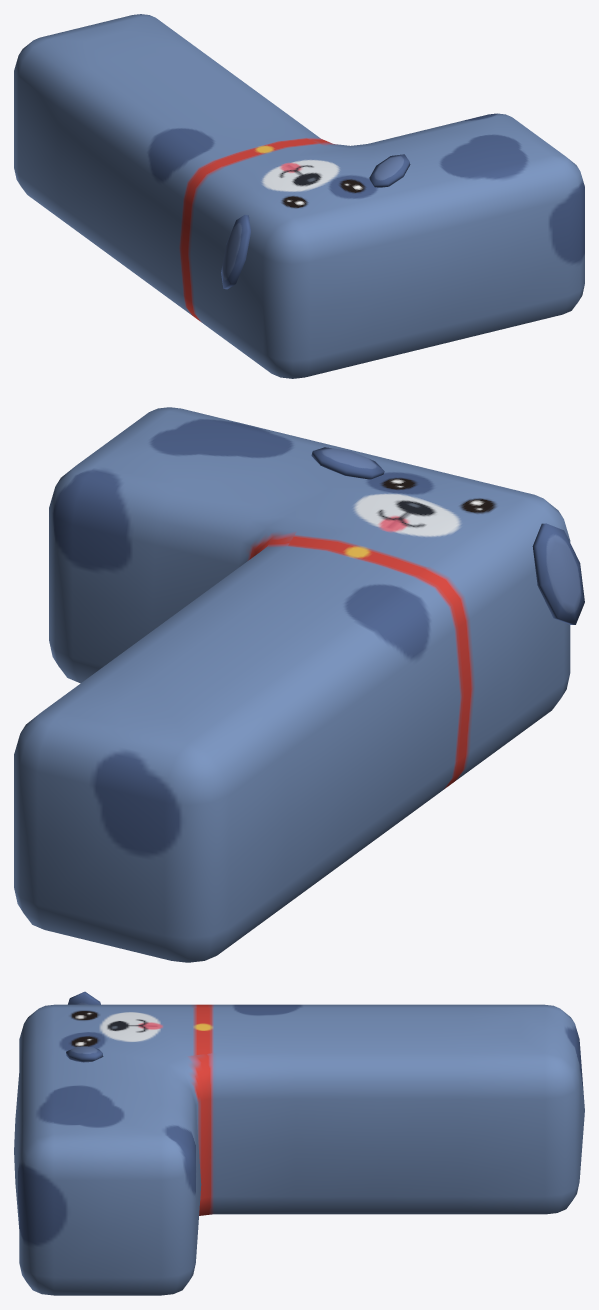
Rendered from Dog_L.fbx.
3 views of the same model, one above another, from view 1: azimuth 30°, elevation 25°; view 2: azimuth 150°, elevation 25°; view 3: azimuth 270°, elevation 25° (orthographic). The views are drawn at different scales.
Visible parts, largest first — view 1: Dog_L; view 2: Dog_L; view 3: Dog_L.
Part boxes in pixels (box(x1,y1,x2,y2)): Dog_L: box(14, 14, 584, 378); Dog_L: box(14, 407, 584, 962); Dog_L: box(14, 991, 584, 1295).
Bounding box in the file's own units: 2.09 × 0.9674 × 2.98.
1 material, 1 textured.
